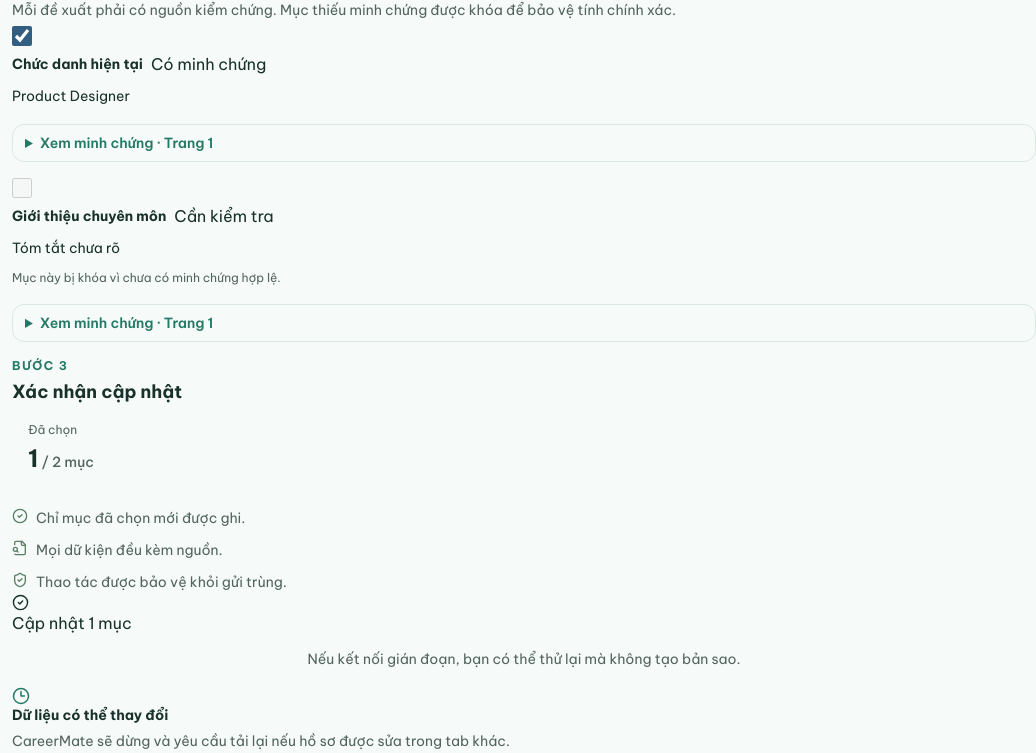
Test: profile import review › turns an optimistic conflict into a stale state that blocks apply
(page scrolled)
Click the button "Cập nhật 1 mục" at (72, 614), box top-left (12, 594), bottom-right (132, 635)
(page scrolled)
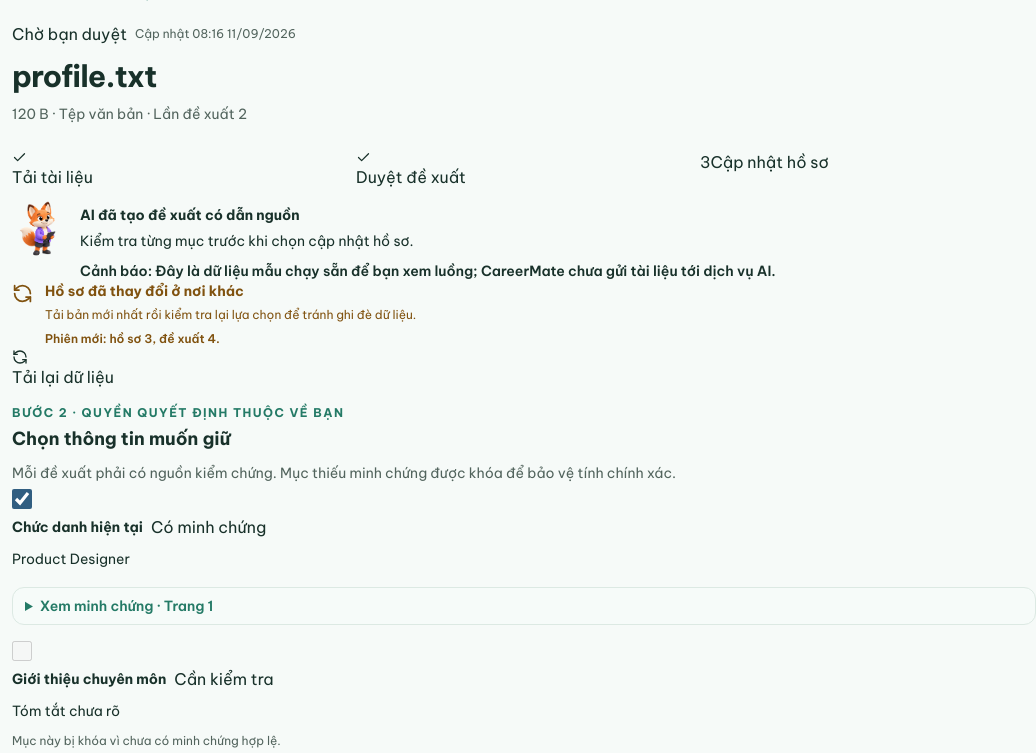
Result: the heading "Hồ sơ đã thay đổi ở nơi khác" is shown at top-left (45, 282), bottom-right (244, 300)
Result: the text "Phiên mới: hồ sơ 3, đề xuất 4." is shown at top-left (45, 331), bottom-right (220, 346)
Result: the button "Tải lại dữ liệu" is shown at top-left (12, 349), bottom-right (114, 389)
